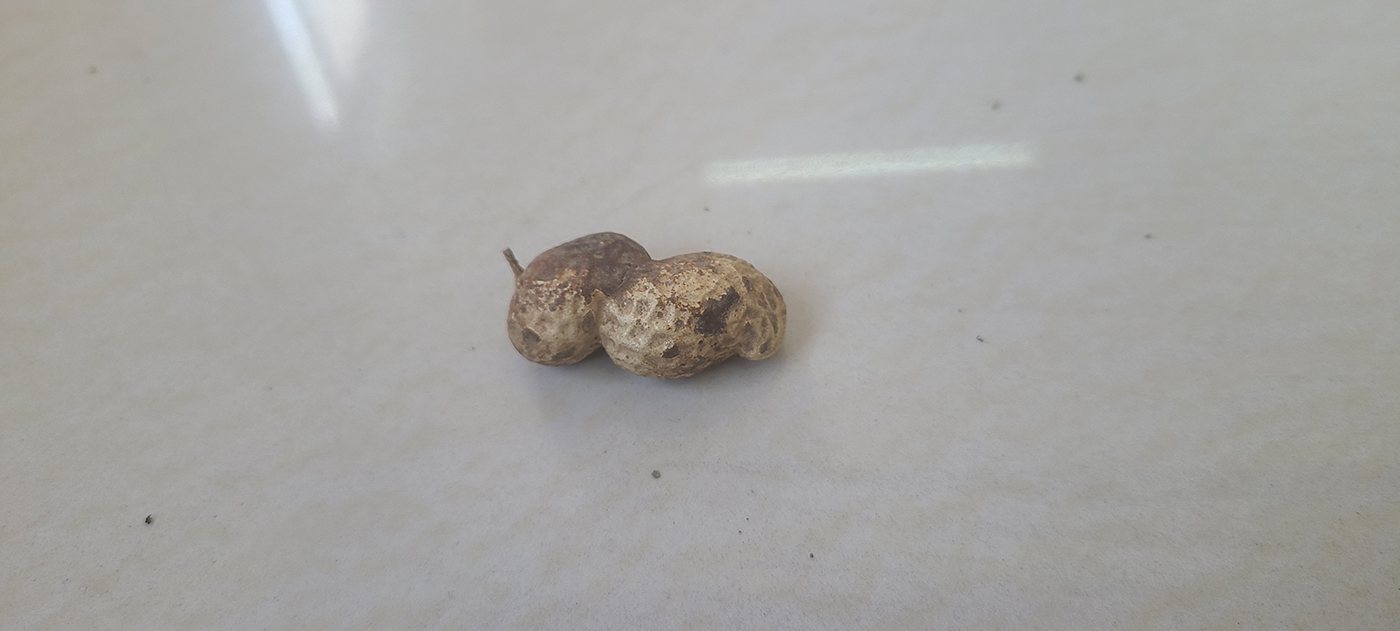l: (500, 229, 788, 381)
